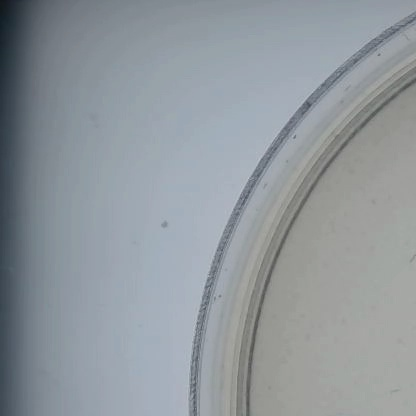worm: (383, 384, 407, 397), (403, 243, 416, 267)
